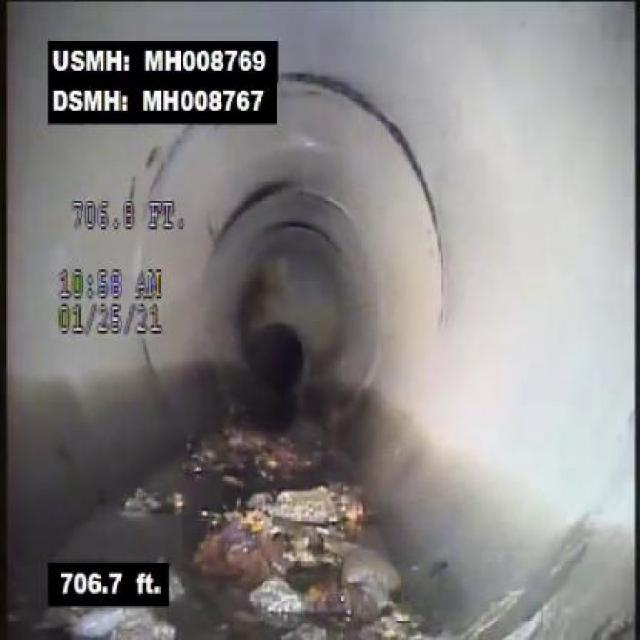Debris: (218, 468, 410, 635)
